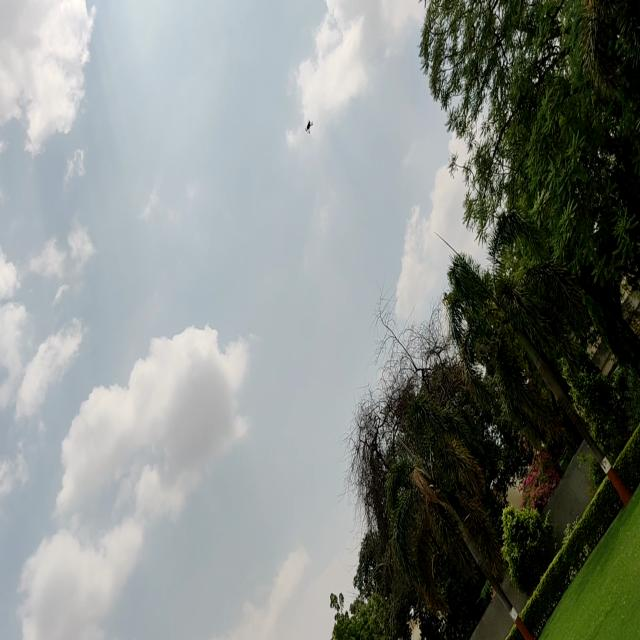drone: (300, 115, 319, 140)
